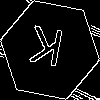K: (25, 25, 66, 77)
